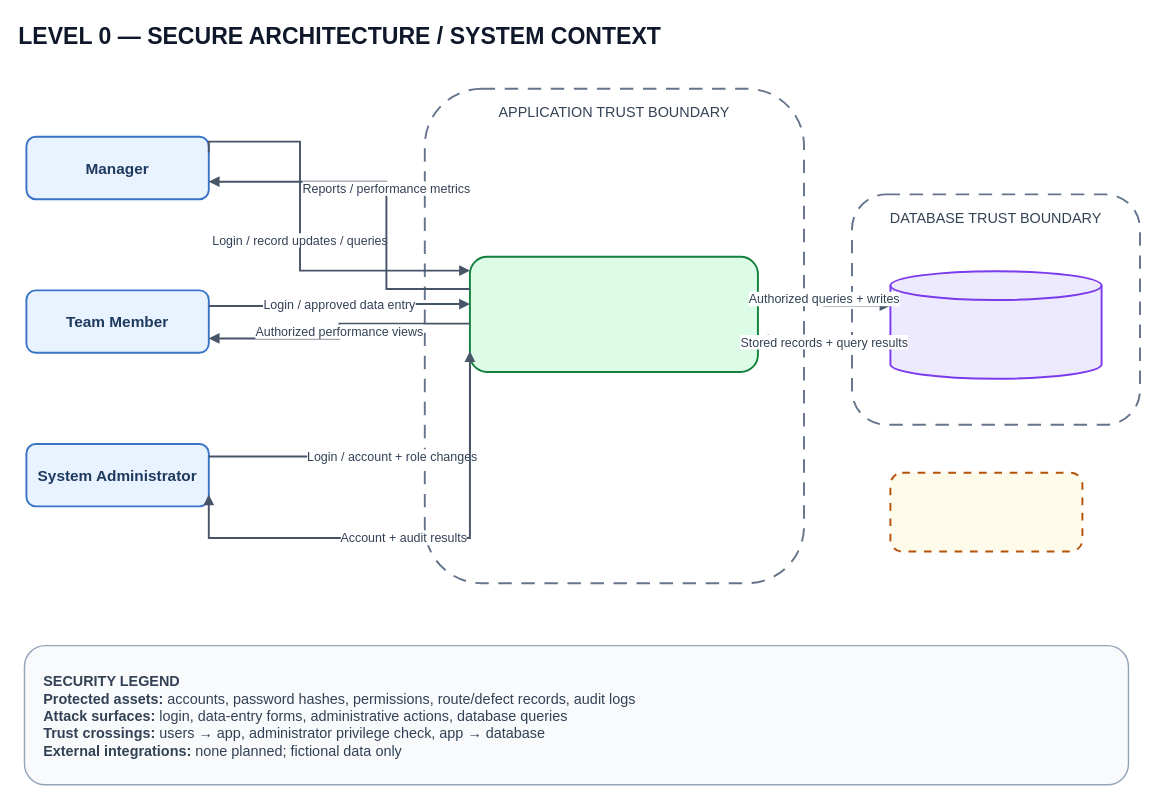
This 1157x802 diagram has some shape labels left out. Each missing label, with the centre of its shape:
"ADMINISTRATIVE PRIVILEGE BOUNDARY Backend RBAC checks required" belongs at [986,511].
"Secure Delivery Defect & Station Performance Dashboard" belongs at [613,313].
"SQLite Database Accounts, password hashes, roles, routes, defects, audit logs" belongs at [995,324].
